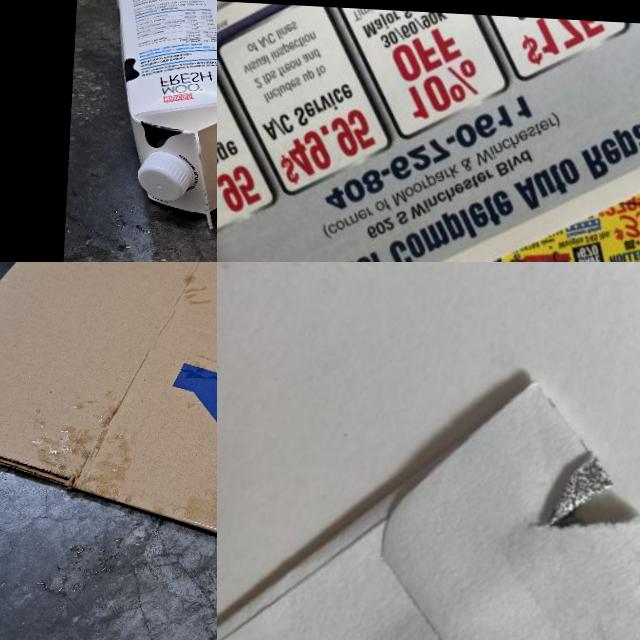caixinha: (99, 0, 217, 232)
papel: (217, 361, 640, 640), (217, 0, 640, 262)
papelão: (0, 262, 217, 619)
tampa plástica: (138, 148, 195, 205)
